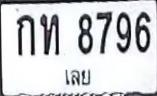6: (134, 11, 150, 52)
7: (95, 10, 112, 54)
8: (77, 13, 92, 54)
9: (115, 10, 131, 52)
A01: (16, 14, 35, 55)
A23: (39, 13, 59, 54)
LEI: (62, 66, 94, 88)
